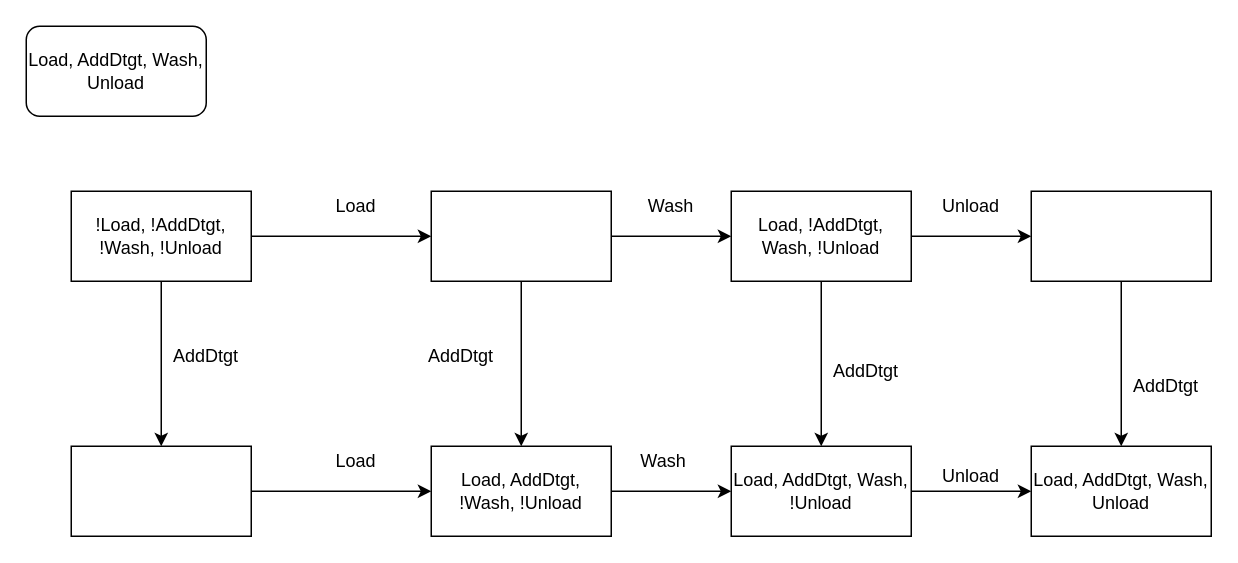
Some shapes in this 1238 by 563 pixel diagram are drawn without their labels. The shapes that lost their labels are listed below. From the top down, each one's centre as x and y in pixels, then its label:
pixel 520 235: Load, !AddDtgt, !Wash, !Unload
pixel 1120 235: Load, !AddDtgt,Wash, Unload
pixel 160 490: !Load, AddDtgt, !Wash, !Unload
